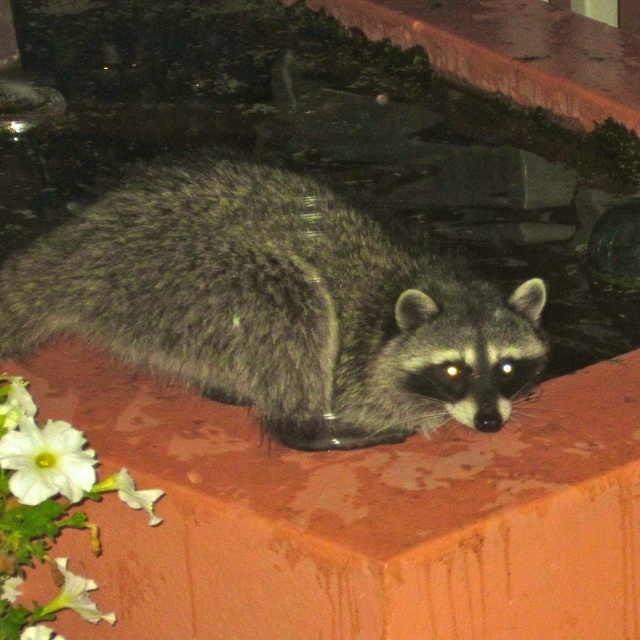Raccoon: (0, 157, 550, 454)
